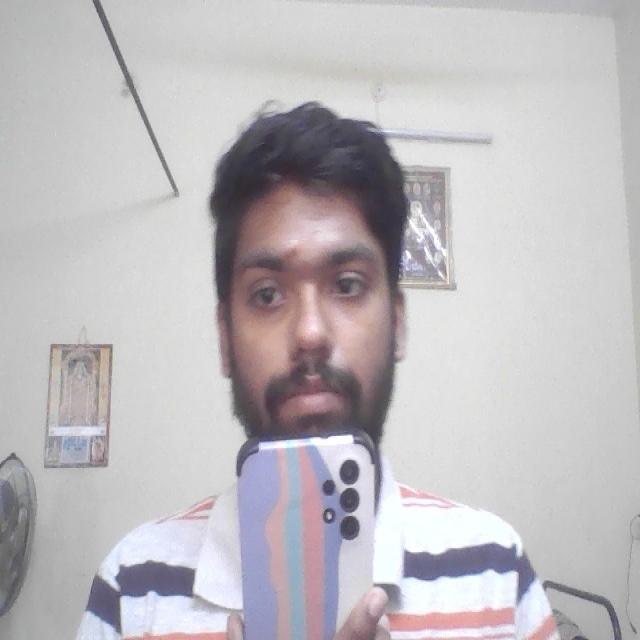Mobile: (233, 425, 385, 640)
